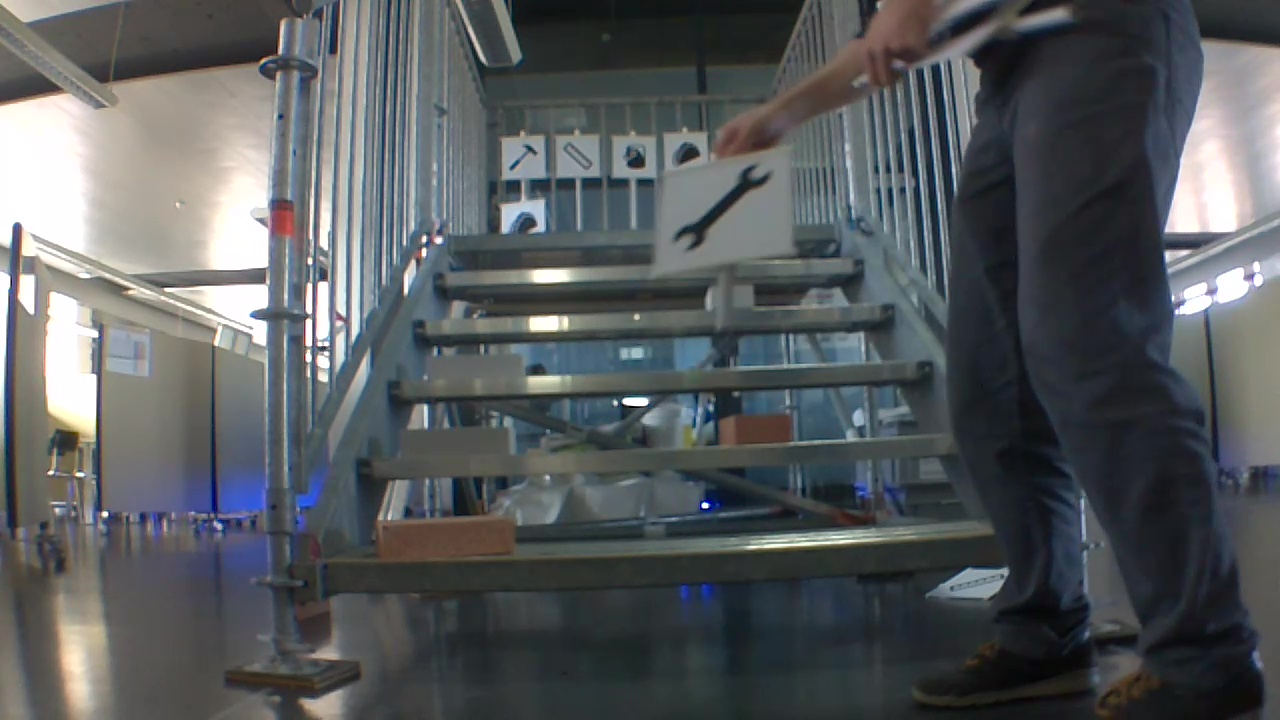brick: (369, 516, 523, 557), (395, 422, 519, 460), (421, 352, 528, 382), (716, 415, 793, 448)
bucket: (620, 141, 649, 170)
edge: (320, 523, 999, 593), (355, 430, 963, 480), (389, 358, 938, 402)
hammer: (511, 144, 539, 169)
ruler: (563, 138, 595, 171)
taco: (670, 140, 706, 170), (508, 209, 539, 237)
wrench: (674, 159, 775, 255)
